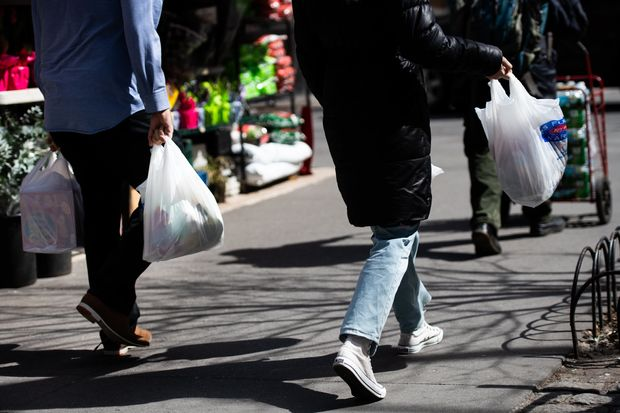plastic_bag: (470, 61, 572, 213), (138, 134, 229, 261), (15, 145, 93, 266)
